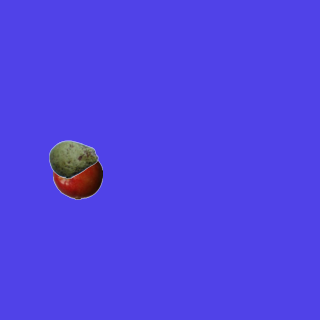Apple Braeburn: (52, 149, 102, 199)
Pear Stone: (48, 134, 98, 184)
